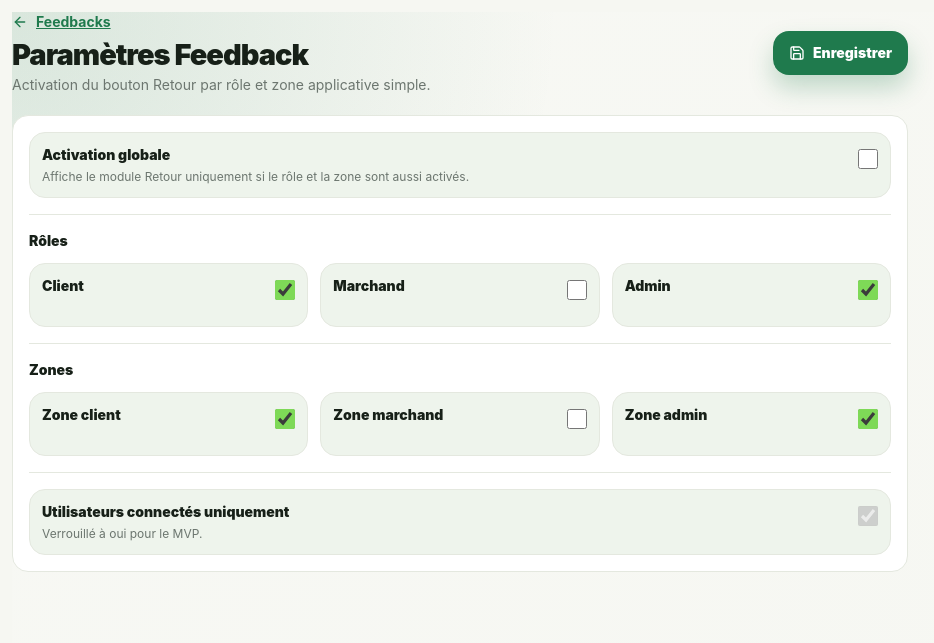
Test: AdminFeedbackSettingsPage › toggle activation globale, rôles et zones puis sauvegarde requireAuthenticatedUser à true
This screenshot has width=934, height=643.
Expected: the heading "Paramètres Feedback" is shown, [12, 37, 308, 72]
Click the checkbox labelled "Activation globale" at (868, 159), box [858, 149, 878, 169]
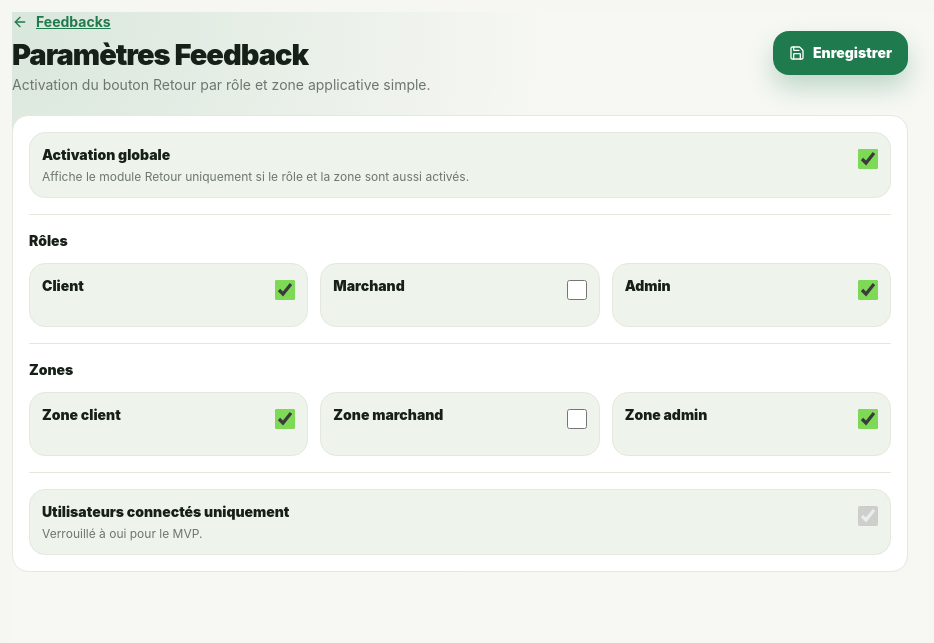
Click the checkbox labelled "Marchand" at (577, 290), box [567, 280, 587, 300]
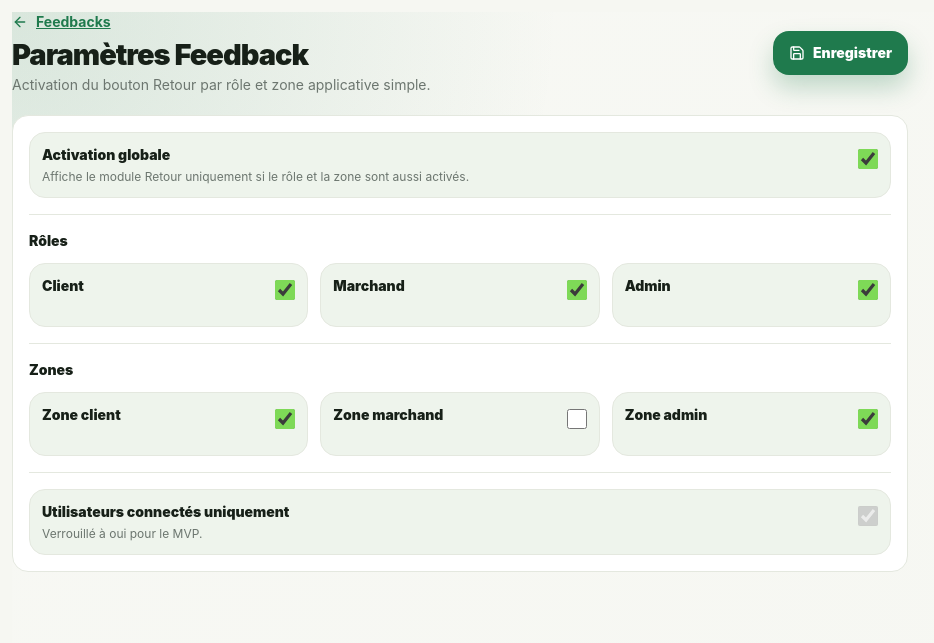
Click the checkbox labelled "Zone marchand" at (577, 419), box [567, 409, 587, 429]
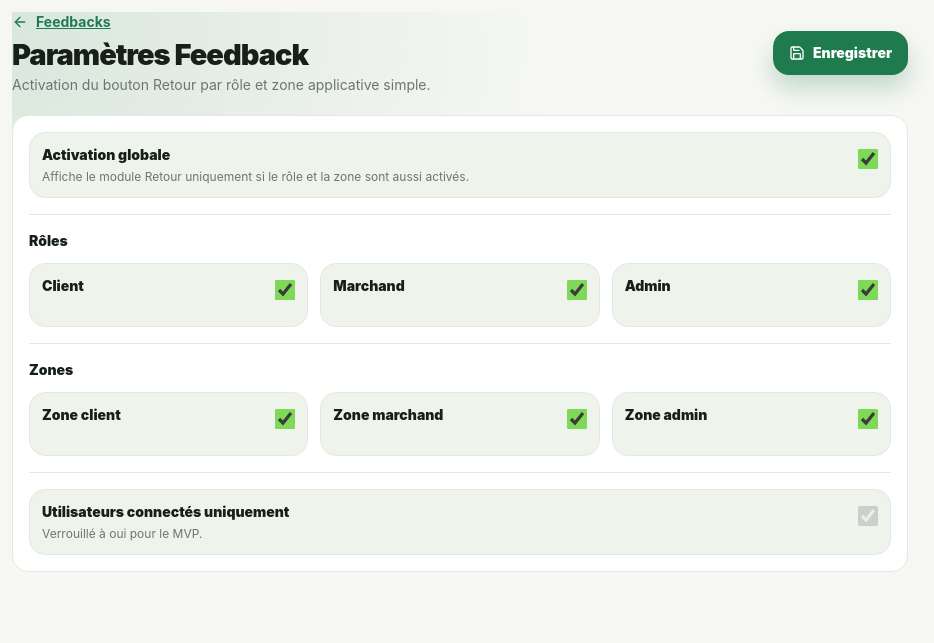
Click the button "Enregistrer" at (840, 53), box [773, 31, 908, 75]
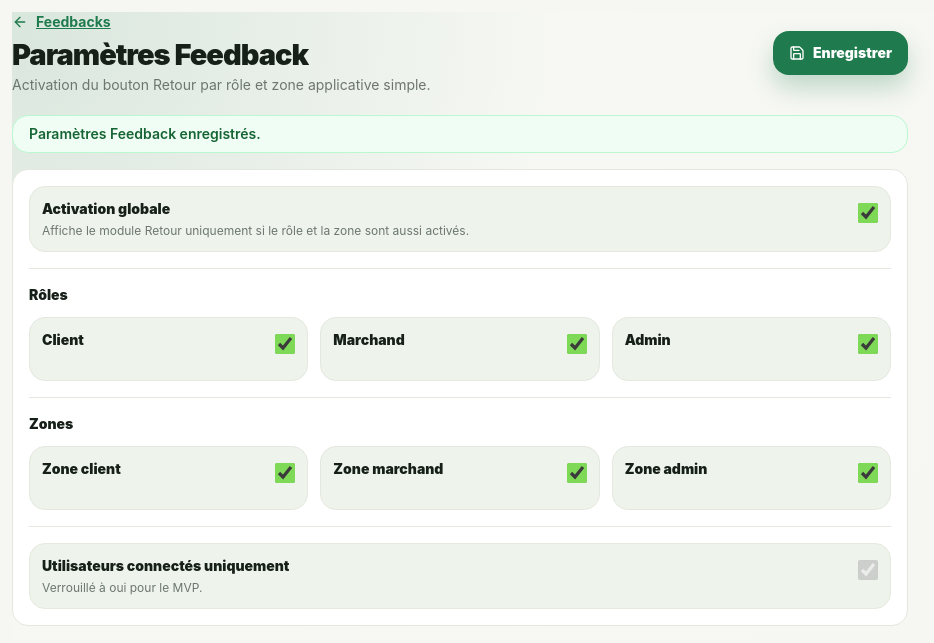
Expected: the text "Paramètres Feedback enregistrés." is shown, [12, 115, 908, 153]
